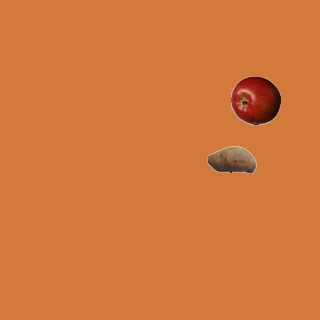Apple Braeburn: (230, 75, 280, 125)
Potato Sweet: (206, 134, 256, 184)
